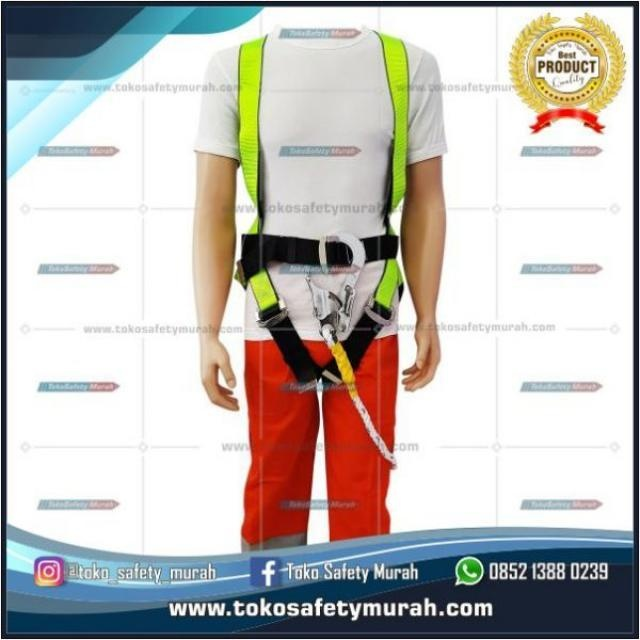Arnes_seguridad: (236, 32, 412, 387)
